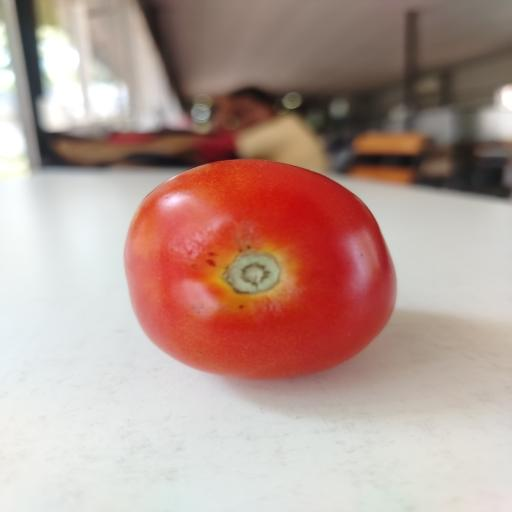ripe: (125, 160, 396, 379)
